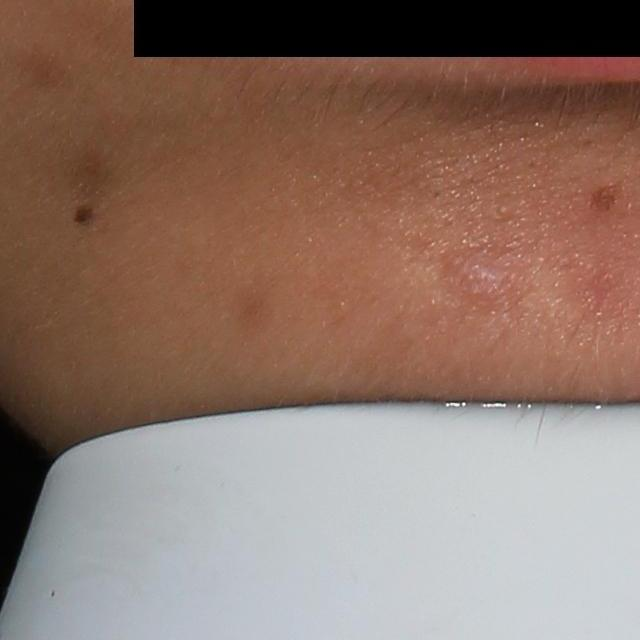nevus: (585, 182, 619, 214), (70, 204, 96, 224)
papule: (446, 252, 505, 309)
